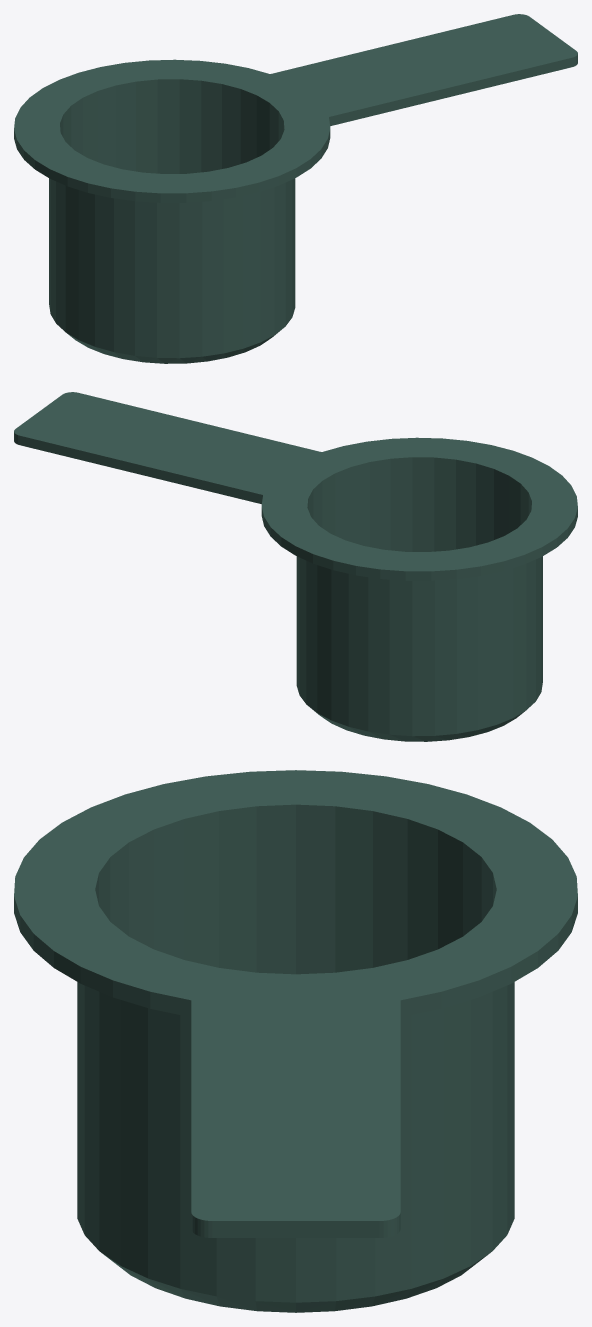
The model's file is SRSTLLPCR.glb.
3 renders of one model, top to bottom at view 1: azimuth 30°, elevation 25°; view 2: azimuth 150°, elevation 25°; view 3: azimuth 270°, elevation 25°, orthographic. The views are drawn at different scales.
Visible parts, largest first — view 1: 20746254; view 2: 20746254; view 3: 20746254.
Part boxes in pixels (left/top/right/bottom): 20746254: left=14, top=14, right=577, bottom=363; 20746254: left=14, top=392, right=577, bottom=741; 20746254: left=14, top=770, right=577, bottom=1312.
Bounding box in the file's own units: 1 × 0.351 × 0.5286.
